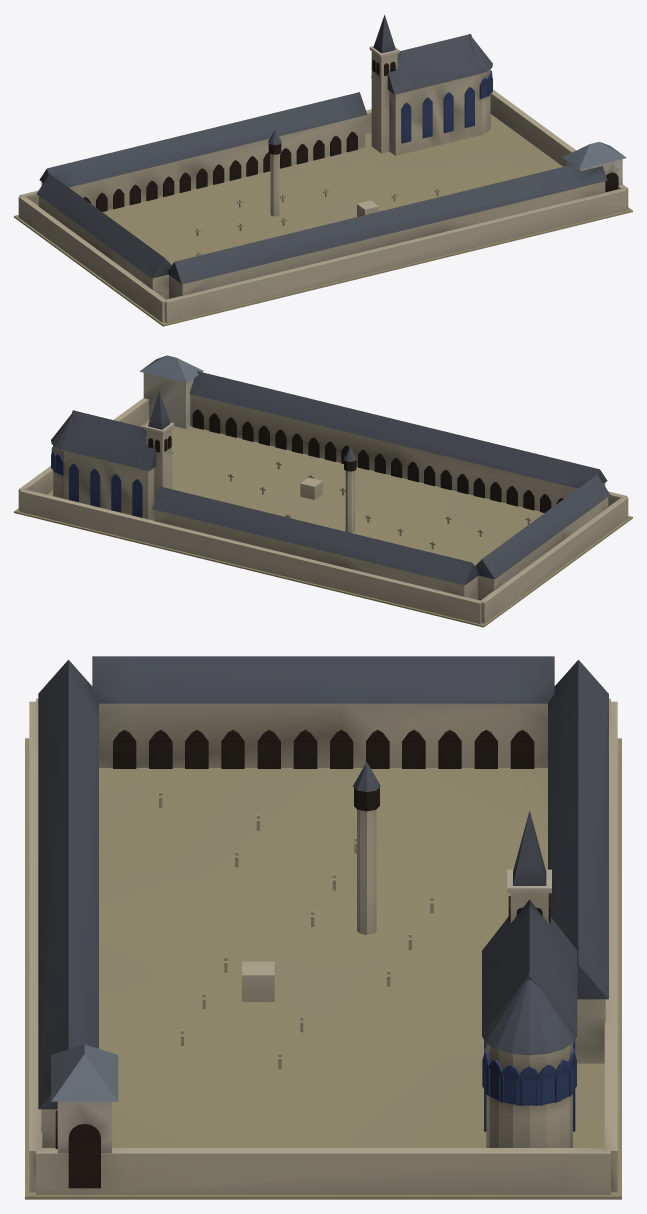
File: innocents.glb
The picture shows the model from 3 angles, top to bottom: view 1: azimuth 30°, elevation 25°; view 2: azimuth 150°, elevation 25°; view 3: azimuth 270°, elevation 25°; orthographic projection. The views are drawn at different scales.
Parts seen in each view (by area): view 1: p0_walls, p2_charnels, p1_church; view 2: p2_charnels, p0_walls, p1_church; view 3: p0_walls, p2_charnels, p1_church.
Boxes of the visible parts, bbox=[...] form: p0_walls: bbox=[14, 89, 632, 326]; p2_charnels: bbox=[36, 92, 626, 299]; p1_church: bbox=[369, 15, 492, 155]; p2_charnels: bbox=[139, 355, 610, 600]; p0_walls: bbox=[14, 398, 632, 627]; p1_church: bbox=[51, 391, 174, 520]; p0_walls: bbox=[25, 698, 621, 1199]; p2_charnels: bbox=[38, 656, 608, 1188]; p1_church: bbox=[482, 810, 577, 1147].
Bounding box in the file's own units: 100 × 27.5 × 55.
